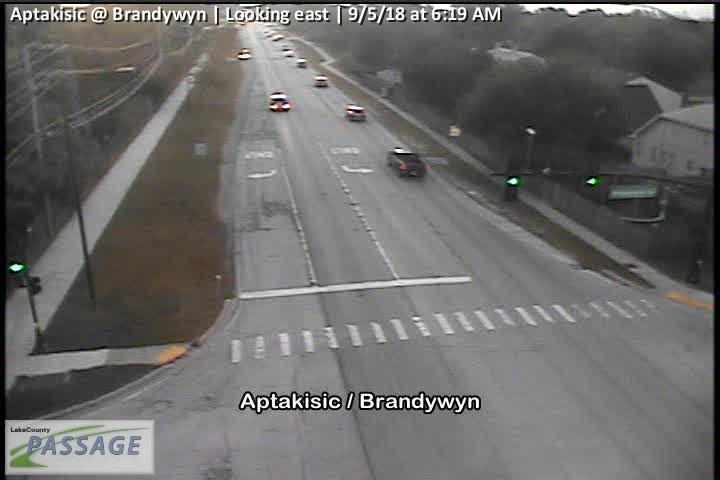Sedan: (388, 148, 426, 177), (268, 92, 290, 112), (345, 104, 368, 122), (313, 75, 328, 86), (238, 48, 249, 60), (295, 59, 306, 68)
